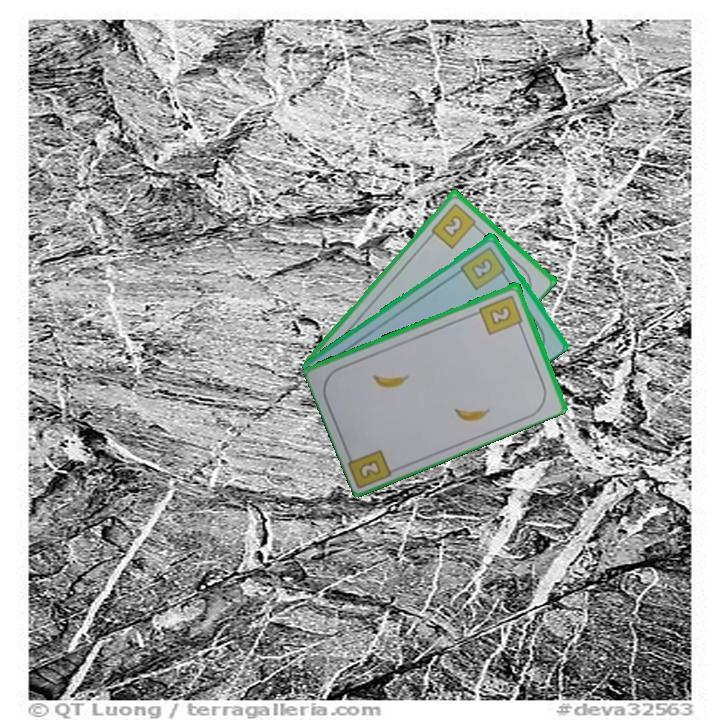2b: (428, 199, 482, 251), (457, 243, 510, 293), (476, 291, 526, 337), (355, 456, 384, 482)
